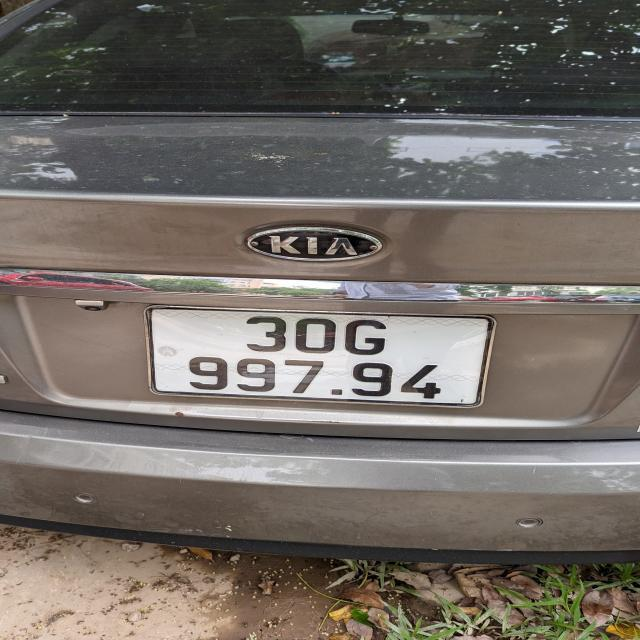license: (145, 304, 496, 408)
